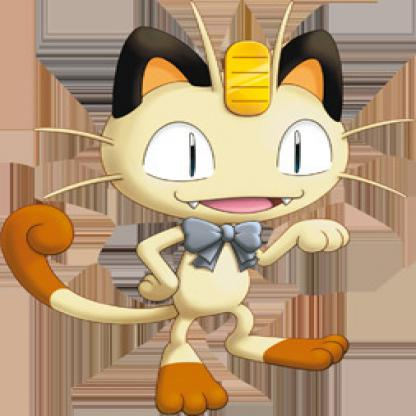Meowth: (9, 18, 389, 416)
